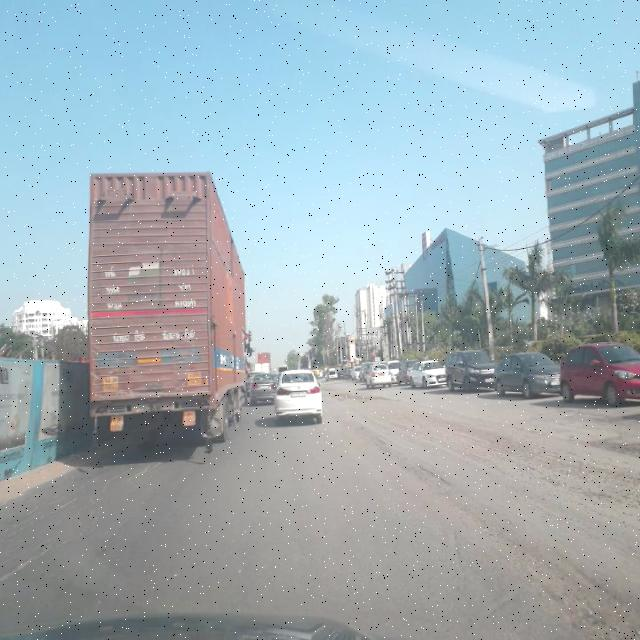D00: (399, 456, 465, 494)
D20: (11, 433, 169, 578)
D40: (487, 521, 622, 627)
